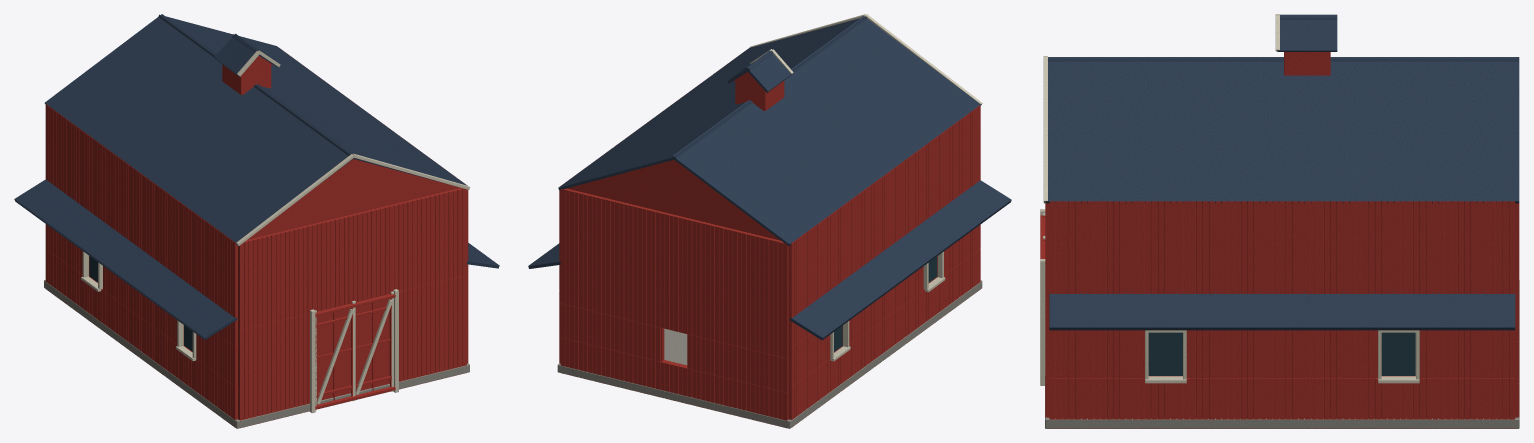
The model's file is BARN12_lod1.glb.
3 renders of one model, left to right at view 1: azimuth 30°, elevation 25°; view 2: azimuth 150°, elevation 25°; view 3: azimuth 270°, elevation 25°, orthographic. The views are drawn at different scales.
Visible parts, largest first — view 1: BARN12_LOD1; view 2: BARN12_LOD1; view 3: BARN12_LOD1.
Boxes of the visible parts, box(x1,y1,x2,y2) form: BARN12_LOD1: box(14, 14, 499, 428); BARN12_LOD1: box(528, 14, 1011, 428); BARN12_LOD1: box(1040, 14, 1519, 428).
Bounding box in the file's own units: 11.71 × 10.63 × 13.38.
8 materials, 6 textured.
